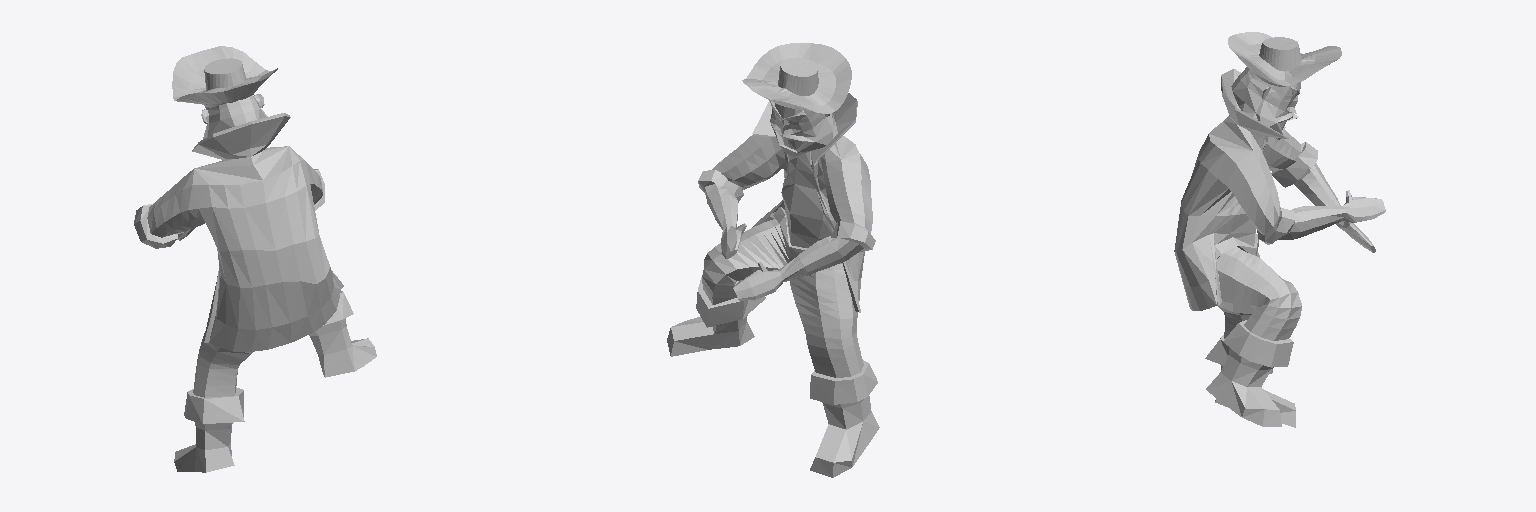
File: pirata_000109.obj
The picture shows the model from 3 angles: view 1: azimuth 30°, elevation 25°; view 2: azimuth 150°, elevation 25°; view 3: azimuth 270°, elevation 25°; orthographic projection.
Visible parts, largest first — view 1: Pirata_PirataH; view 2: Pirata_PirataH; view 3: Pirata_PirataH.
Part boxes in pixels (left/top/right/bottom): Pirata_PirataH: left=134, top=46, right=376, bottom=472; Pirata_PirataH: left=667, top=43, right=879, bottom=477; Pirata_PirataH: left=1174, top=32, right=1385, bottom=427.
Size of the model in its own units: 5.57 by 9.66 by 4.64.